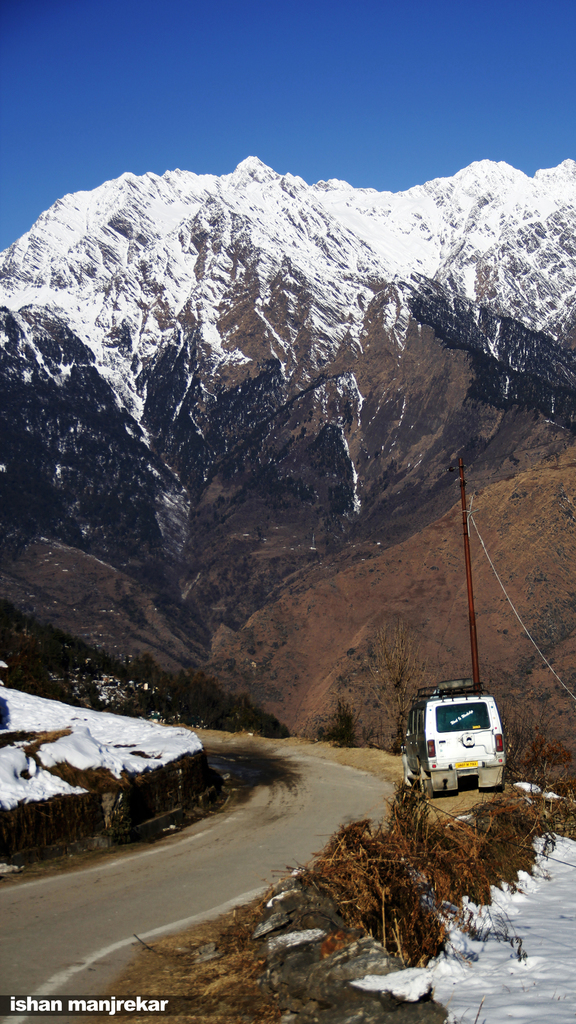Car: (399, 676, 508, 798)
